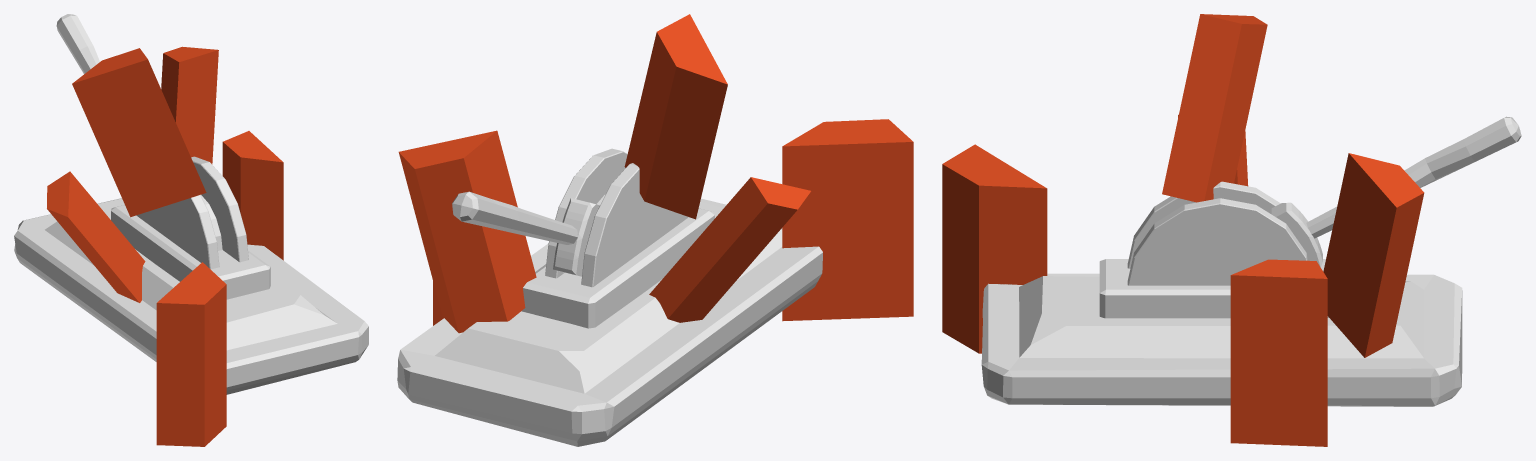
The model's file is lever.glb.
3 views of the same model, side by side, from view 1: azimuth 30°, elevation 25°; view 2: azimuth 150°, elevation 25°; view 3: azimuth 270°, elevation 25° (orthographic). The views are drawn at different scales.
Parts seen in each view (by area): view 1: lever_platform, lever cutter -noimp.004, lever cutter -noimp, lever_base, lever cutter -noimp.002, lever cutter -noimp.001, lever cutter -noimp.003, lever_handle; view 2: lever_platform, lever cutter -noimp, lever cutter -noimp.003, lever_base, lever cutter -noimp.004, lever cutter -noimp.002, lever_handle; view 3: lever_platform, lever_base, lever cutter -noimp.001, lever cutter -noimp, lever cutter -noimp.003, lever cutter -noimp.004, lever_handle.
Part boxes in pixels (box(x1,y1,x2,y2)): lever_platform: box(14, 198, 368, 394); lever cutter -noimp.004: box(72, 48, 206, 217); lever cutter -noimp: box(156, 262, 226, 446); lever_base: box(111, 156, 270, 299); lever cutter -noimp.002: box(47, 171, 145, 302); lever cutter -noimp.001: box(222, 131, 283, 260); lever cutter -noimp.003: box(161, 46, 218, 164); lever_handle: box(56, 14, 222, 250); lever_platform: box(397, 198, 822, 446); lever cutter -noimp: box(782, 119, 913, 321); lever cutter -noimp.003: box(398, 130, 536, 333); lever_base: box(521, 148, 714, 328); lever cutter -noimp.004: box(624, 14, 727, 219); lever cutter -noimp.002: box(649, 177, 810, 322); lever_handle: box(452, 191, 605, 276); lever_platform: box(981, 273, 1462, 406); lever_base: box(1099, 181, 1328, 318); lever cutter -noimp.001: box(1230, 259, 1327, 446); lever cutter -noimp: box(942, 144, 1047, 353); lever cutter -noimp.003: box(1323, 153, 1424, 357); lever cutter -noimp.004: box(1162, 14, 1267, 202); lever_handle: box(1271, 116, 1521, 267).
Bounding box in the file's own units: 0.7346 × 0.8294 × 1.25.
